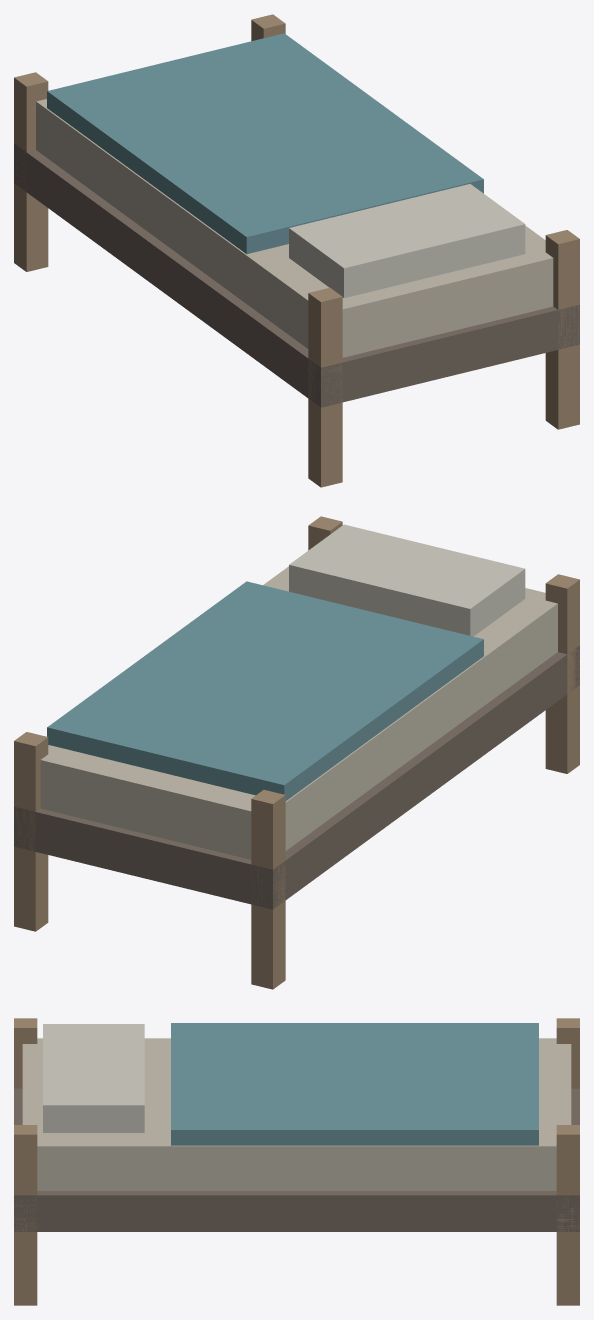
File: bed_single_apartment.glb
3 renders of one model, top to bottom at view 1: azimuth 30°, elevation 25°; view 2: azimuth 150°, elevation 25°; view 3: azimuth 270°, elevation 25°, orthographic. The views are drawn at different scales.
Visible parts, largest first — view 1: body; view 2: body; view 3: body.
Boxes of the visible parts, box(x1,y1,x2,y2) form: body: box(14, 14, 579, 487); body: box(14, 516, 579, 989); body: box(14, 1018, 579, 1305).
Bounding box in the file's own units: 0.95 × 0.695 × 1.95.
